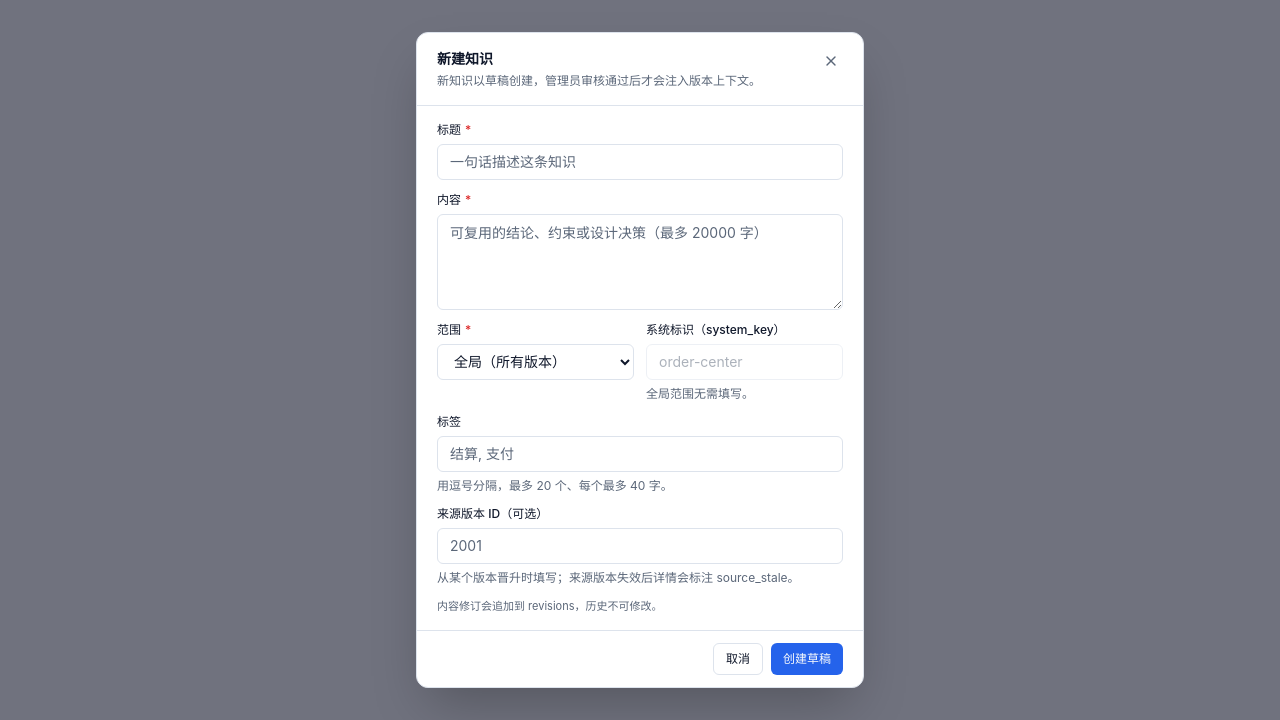
it: KnowledgeEditor › requires a system key for the system scope
Type "新知识" into the field labelled "标题" at (640, 162), box [437,144,843,180]
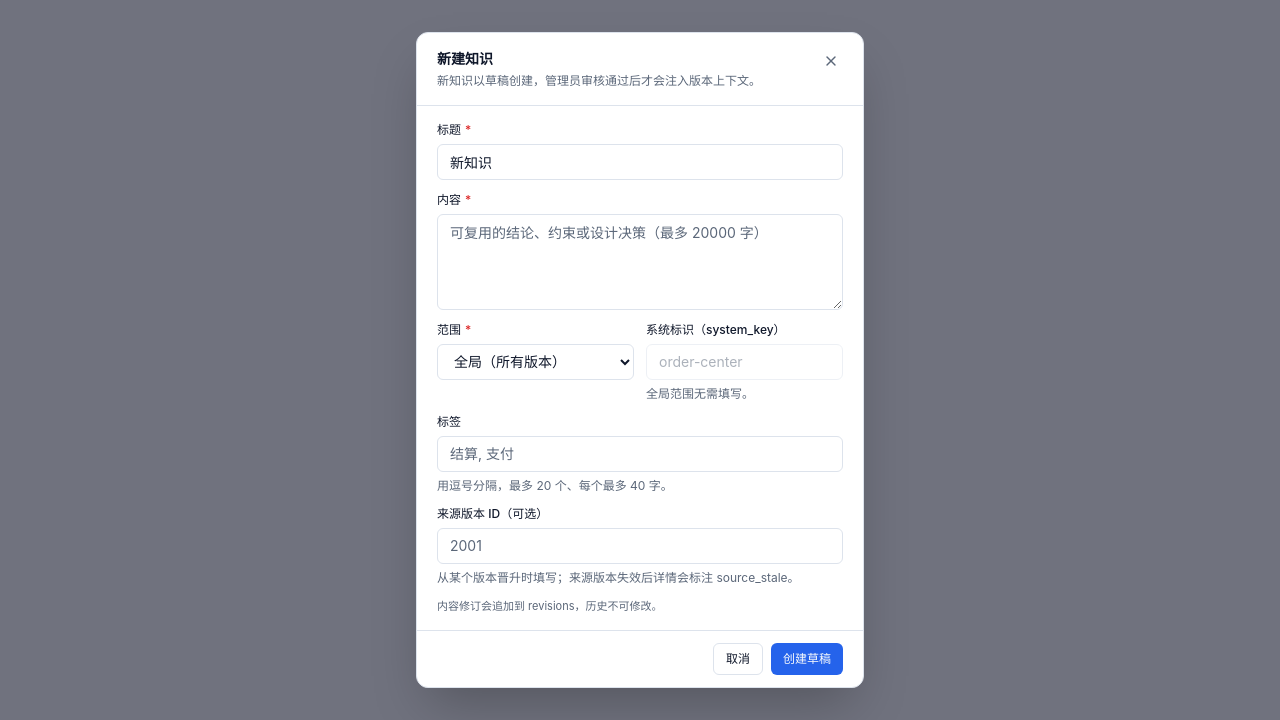
Type "内容说明" into the text box labelled "内容" at (640, 262), box [437,214,843,310]
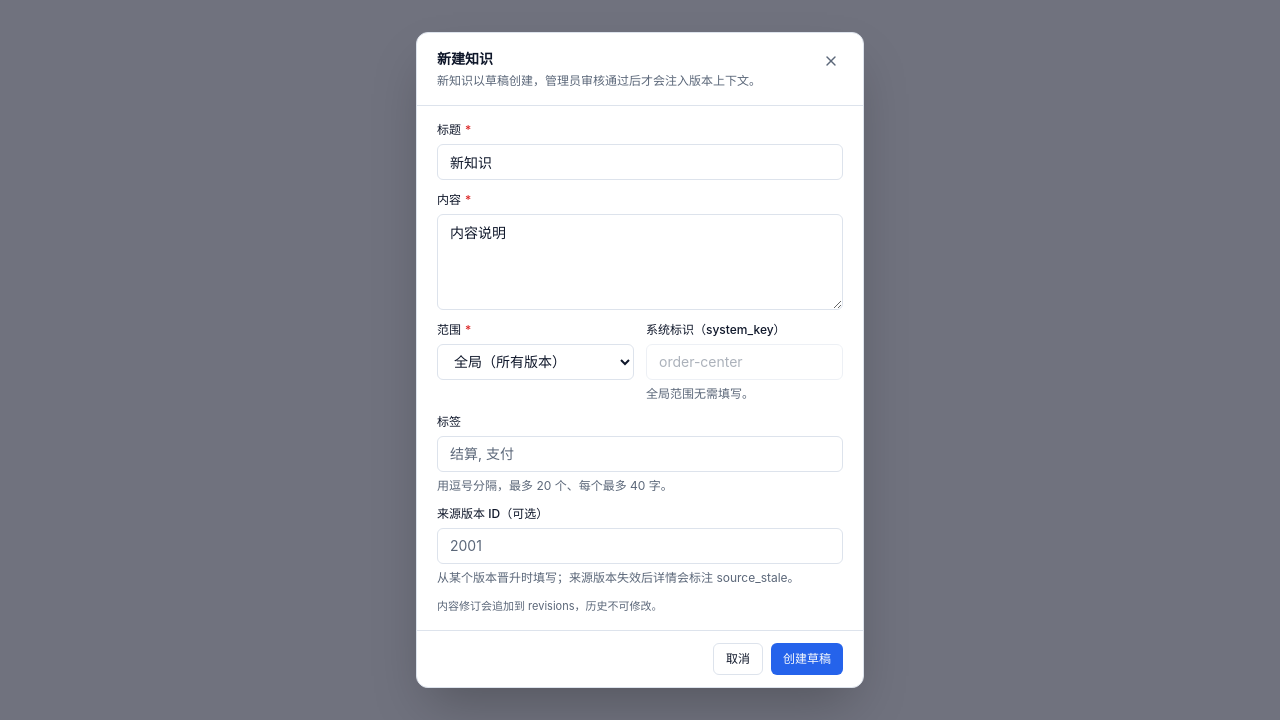
Select "系统（按 SUT 族匹配）" in the dropdown labelled "范围" at (536, 362), box [437,344,634,380]
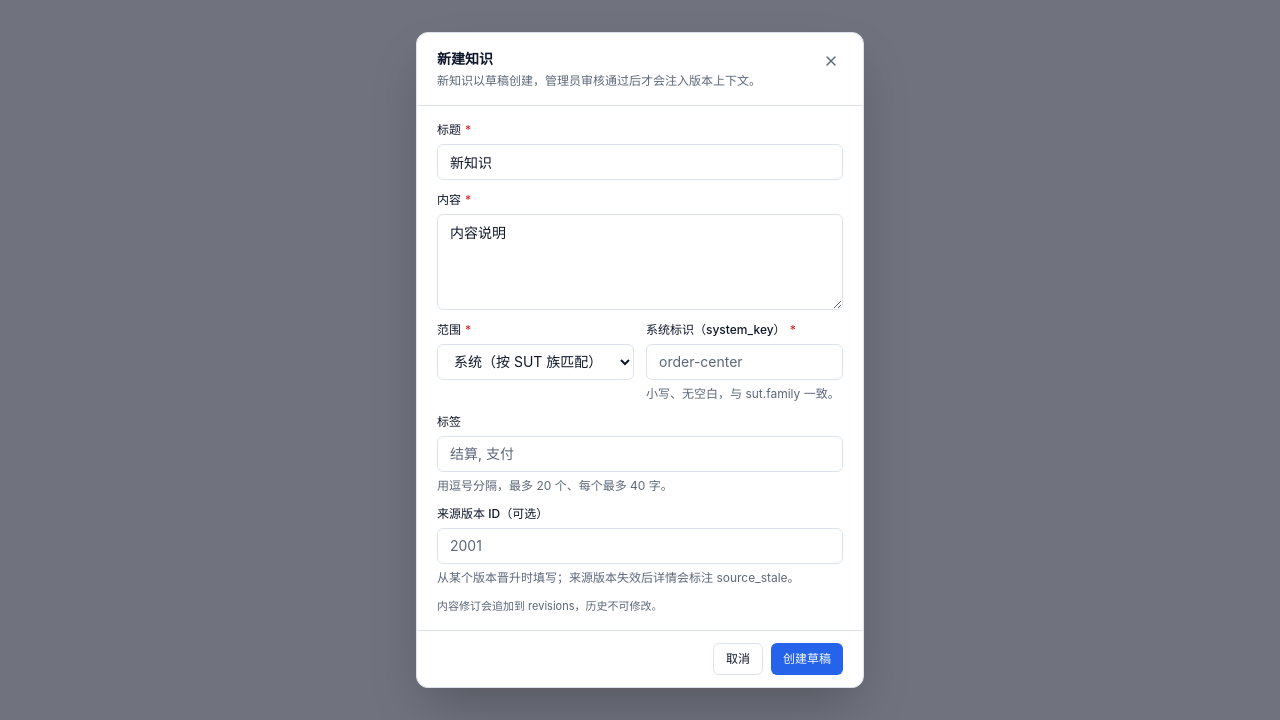
Click the button with test id "knowledge-editor-submit" at (807, 659), box [771,643,843,675]
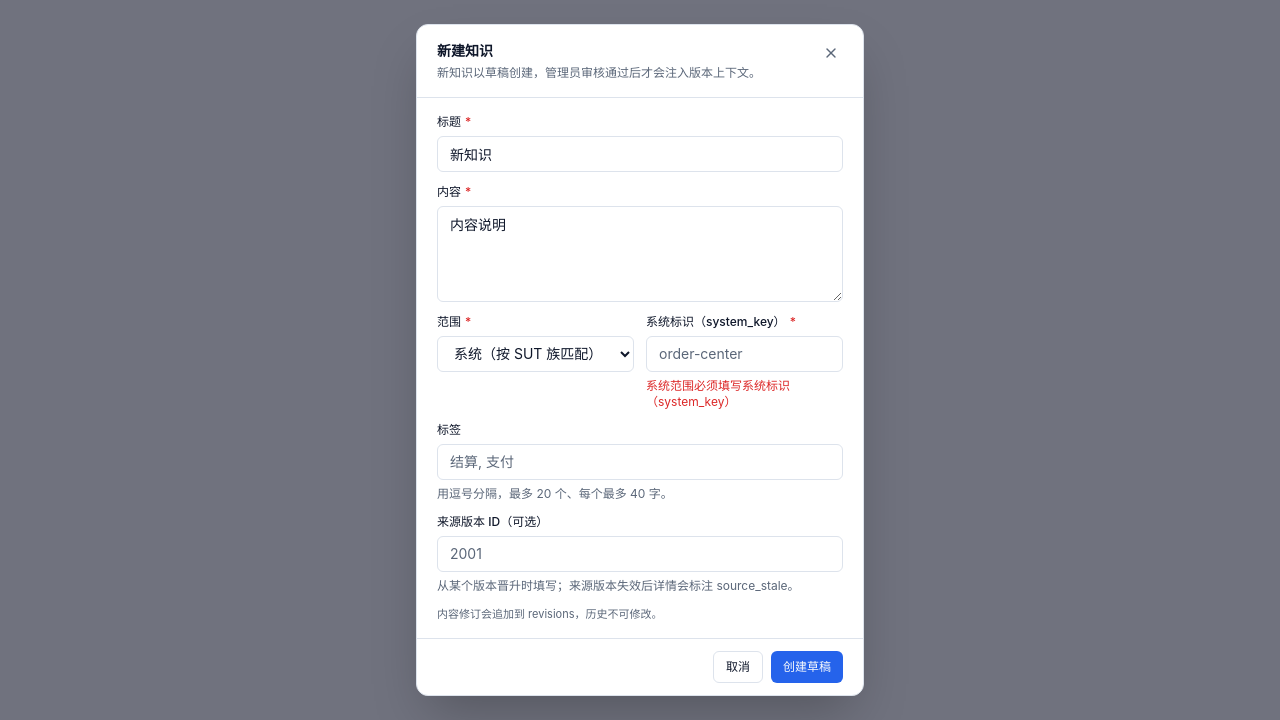
Now the text "系统范围必须填写系统标识（system_key）" is shown, box [646,378,790,409]
